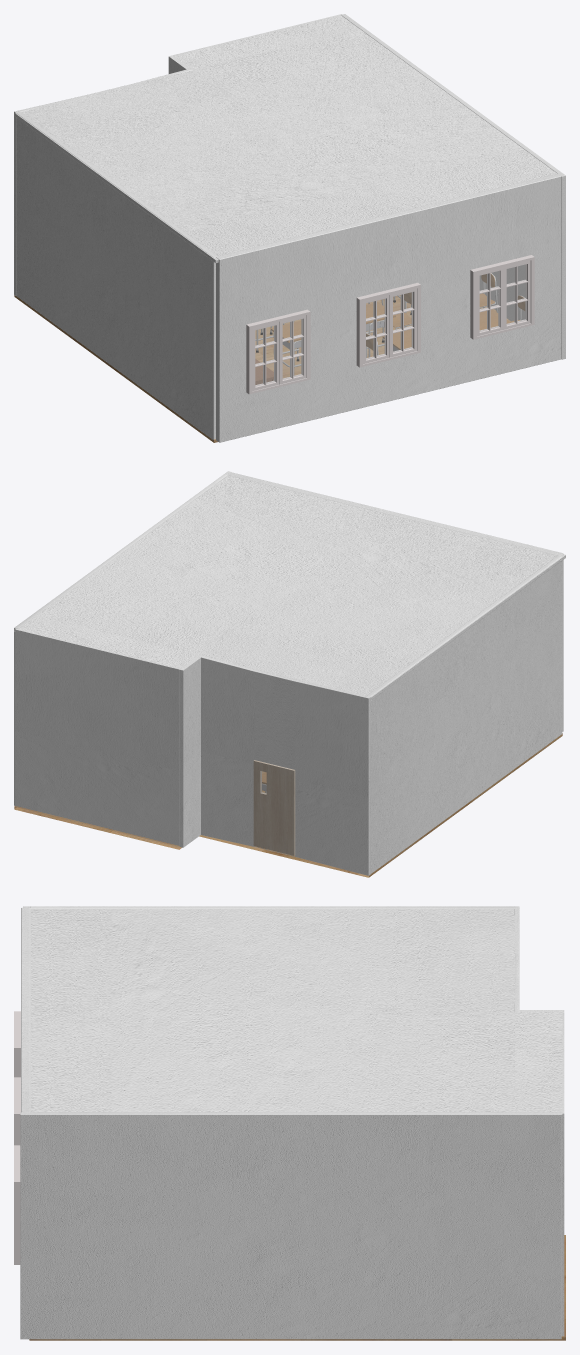
The model's file is basic_classroom.glb.
3 renders of one model, top to bottom at view 1: azimuth 30°, elevation 25°; view 2: azimuth 150°, elevation 25°; view 3: azimuth 270°, elevation 25°, orthographic. The views are drawn at different scales.
Parts seen in each view (by area): view 1: pCube32, pCube31, pCube5, pCube21, pCube22, pCube20, pCube37, pCube4, pCube6; view 2: pCube32, pCube6, pCube5, pCube24, pCube4, pCube31, pCube37; view 3: pCube37, pCube32, pCube31, pCube5, pCube6, pCube4, pCube20.
Part boxes in pixels (x1,y1,x2,y2): pCube32: (15, 14, 556, 263); pCube31: (216, 173, 562, 442); pCube5: (16, 111, 217, 439); pCube21: (356, 282, 420, 367); pCube22: (246, 309, 310, 394); pCube20: (470, 255, 534, 339); pCube37: (341, 14, 565, 359); pCube4: (14, 295, 510, 442); pCube6: (14, 14, 341, 295); pCube32: (14, 475, 565, 700); pCube6: (15, 629, 370, 875); pCube5: (366, 555, 562, 873); pCube24: (253, 760, 295, 855); pCube4: (14, 733, 562, 877); pCube31: (227, 472, 563, 731); pCube37: (14, 471, 231, 805); pCube37: (20, 1112, 561, 1339); pCube32: (23, 906, 562, 1118); pCube31: (21, 907, 30, 1113); pCube5: (30, 906, 516, 909); pCube6: (514, 906, 564, 1336); pCube4: (29, 1235, 565, 1340); pCube20: (14, 1145, 20, 1264).
Size of the model in its own units: 7.74 by 3.93 by 8.64.
Materials: 17 (10 with a texture image).
